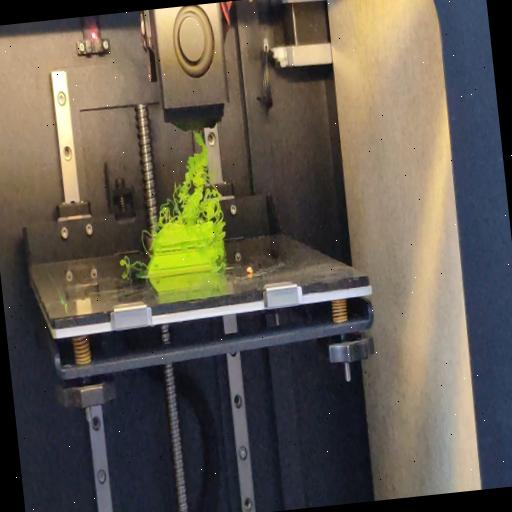spaghetti: (140, 131, 228, 232), (216, 223, 232, 270), (119, 256, 149, 274), (140, 227, 152, 258)
